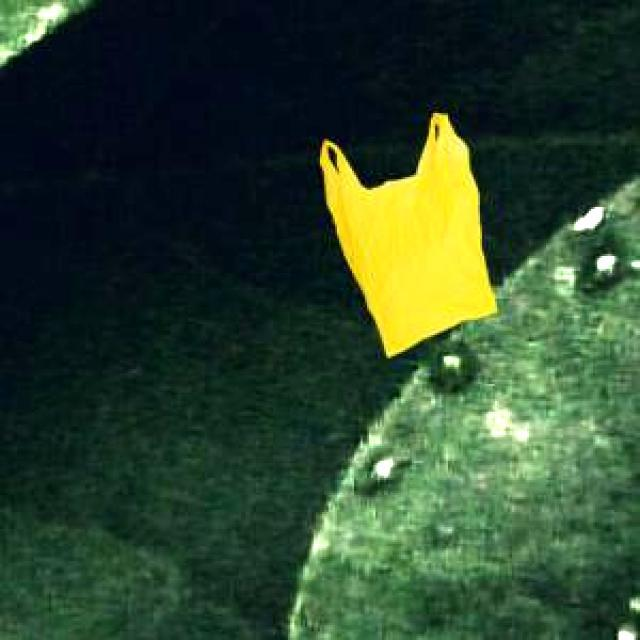Plastic_Bag: (317, 110, 494, 353)
